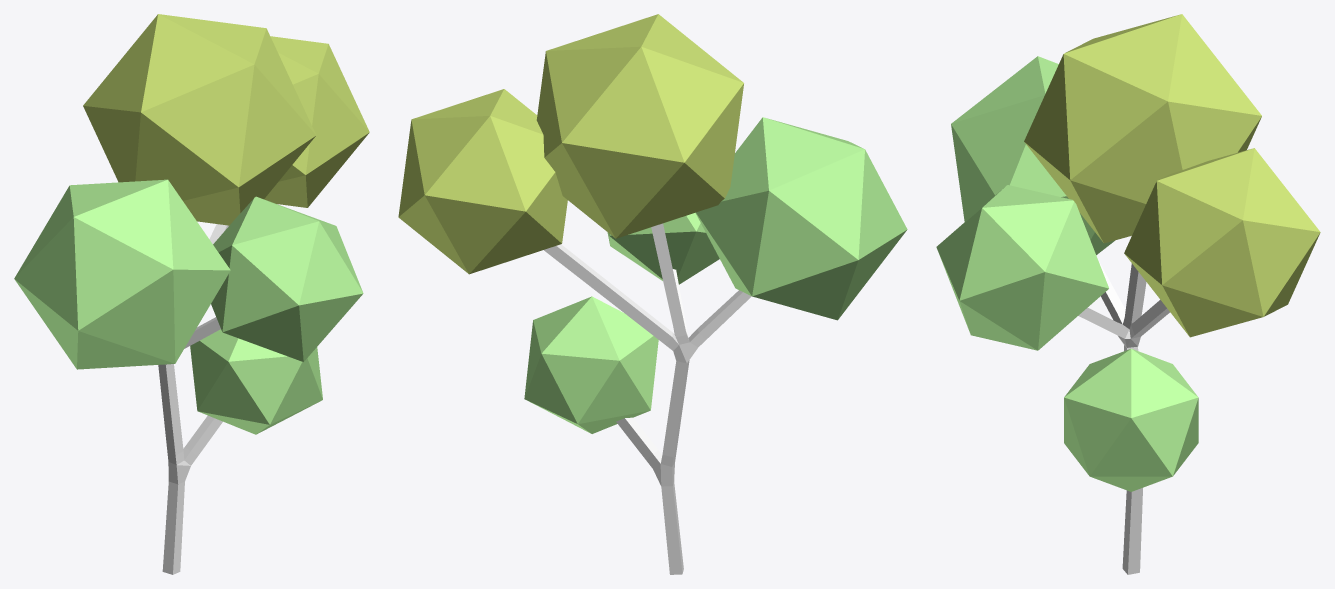
The model's file is birch tree.fbx.
3 views of the same model, side by side, from view 1: azimuth 30°, elevation 25°; view 2: azimuth 150°, elevation 25°; view 3: azimuth 270°, elevation 25° (orthographic). The views are drawn at different scales.
Visible parts, largest first — view 1: birch trunk; view 2: birch trunk; view 3: birch trunk.
Part boxes in pixels (<box>): birch trunk: <box>14,14,369,574</box>; birch trunk: <box>398,14,907,574</box>; birch trunk: <box>936,14,1320,574</box>.
Size of the model in its own units: 313 by 421 by 260.
